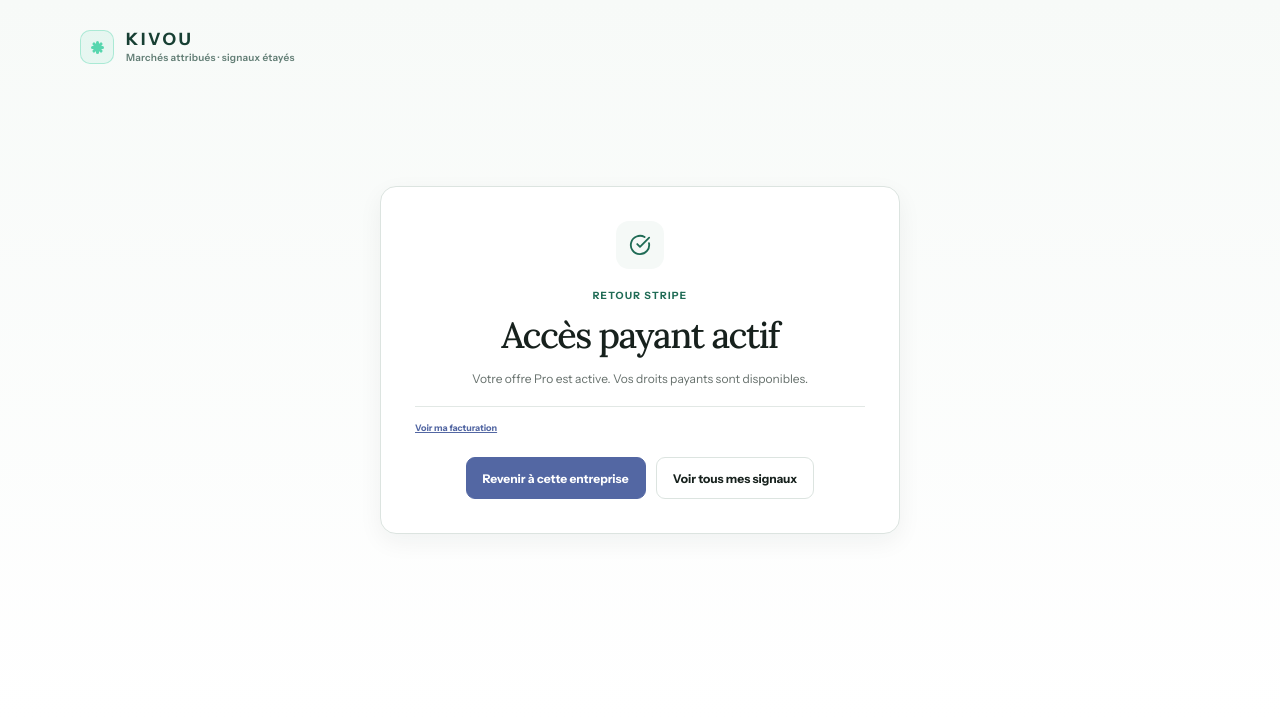
Test: V11 checkout access confirmation and return › revalidates the company dossier on a cold success-page load without any previous prospecting provider
The image size is (1280, 720).
Click the link "Revenir à cette entreprise" at (556, 478), box [466,457,646,499]
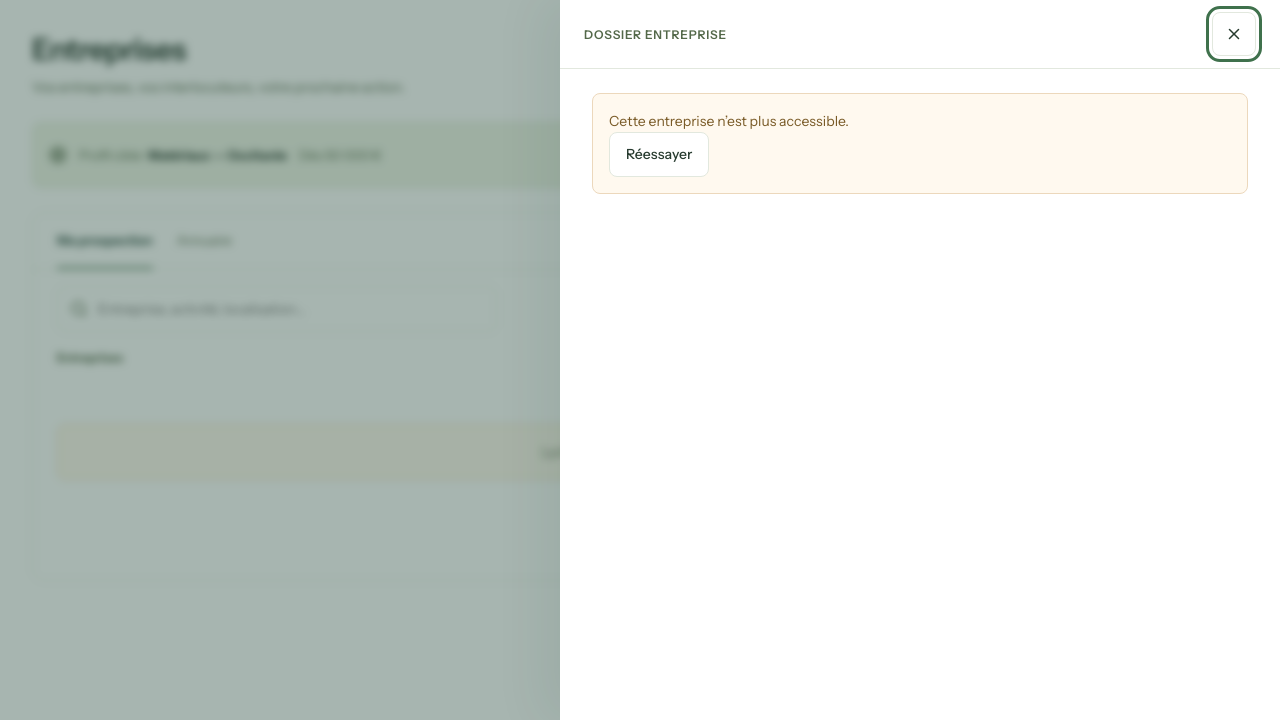
Expected: the text "Cette entreprise n’est plus accessible." is shown, [609,112,849,130]
